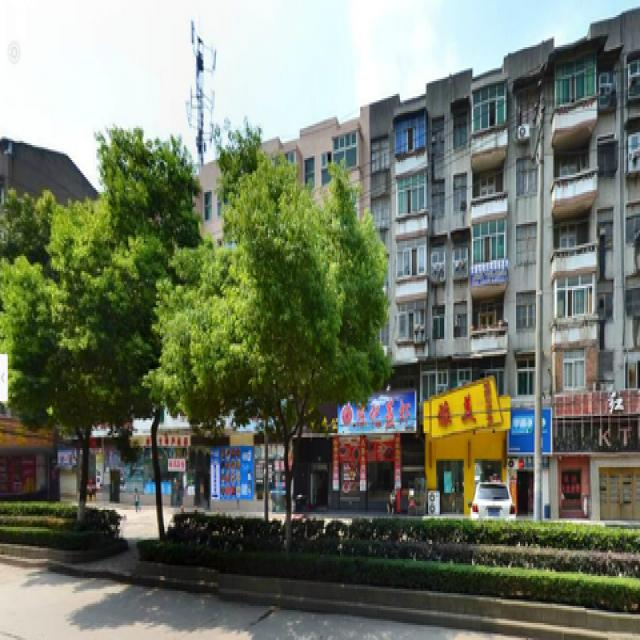cinn: (225, 198, 354, 544), (89, 192, 184, 525)
